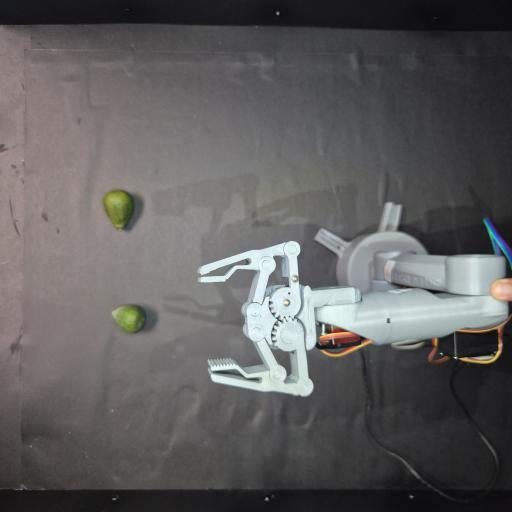higo: (103, 190, 134, 230), (112, 305, 146, 332)
